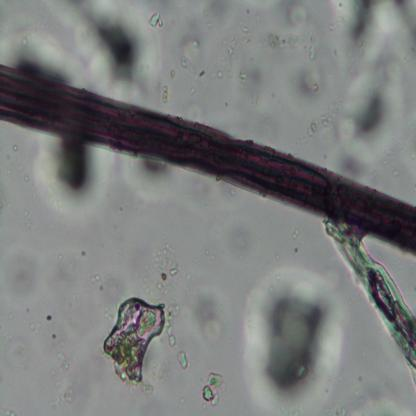Background material: (244, 263, 342, 413), (343, 0, 416, 159), (102, 280, 190, 389), (64, 0, 157, 96), (35, 137, 111, 220), (8, 27, 86, 85), (143, 238, 183, 305), (124, 157, 176, 205), (190, 287, 228, 345), (204, 32, 245, 81), (343, 386, 409, 416), (6, 255, 48, 299), (42, 308, 70, 373), (291, 61, 328, 99), (243, 58, 270, 106), (305, 106, 342, 139), (179, 24, 205, 67), (225, 224, 257, 256), (279, 220, 304, 252), (201, 371, 224, 405), (265, 32, 307, 50), (52, 379, 75, 409), (11, 340, 34, 368), (149, 11, 164, 30), (88, 270, 101, 290), (307, 38, 318, 60), (159, 82, 169, 105), (10, 138, 19, 153), (25, 173, 30, 181)
Cellulose filter fibre: (326, 218, 416, 372)
Microfibre: (0, 66, 416, 258)
